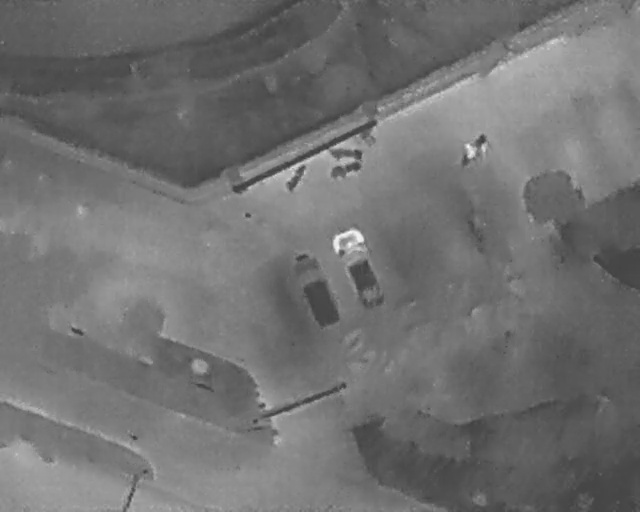Bicycle: (452, 126, 493, 172), (282, 159, 309, 194), (327, 158, 363, 181), (327, 147, 365, 161)
Car: (324, 222, 394, 317), (279, 241, 348, 336)
